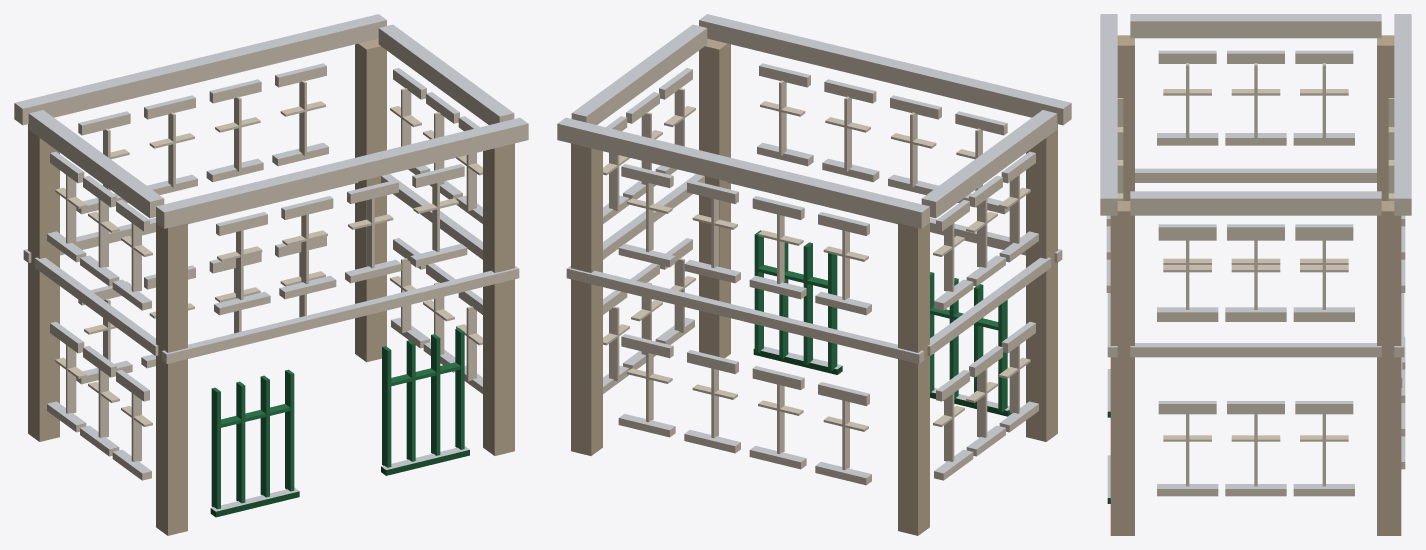
File: Shop_Cocoa_Trim.glb
3 views of the same model, side by side, from view 1: azimuth 30°, elevation 25°; view 2: azimuth 150°, elevation 25°; view 3: azimuth 270°, elevation 25° (orthographic). The views are drawn at different scales.
Parts seen in each view (by area): view 1: Shop_Cocoa_Trim; view 2: Shop_Cocoa_Trim; view 3: Shop_Cocoa_Trim.
Part boxes in pixels (bbox=[...]): Shop_Cocoa_Trim: bbox=[14, 14, 528, 535]; Shop_Cocoa_Trim: bbox=[557, 14, 1071, 535]; Shop_Cocoa_Trim: bbox=[1100, 14, 1411, 535].
Bounding box in the file's own units: 27.8 × 24 × 19.8.
